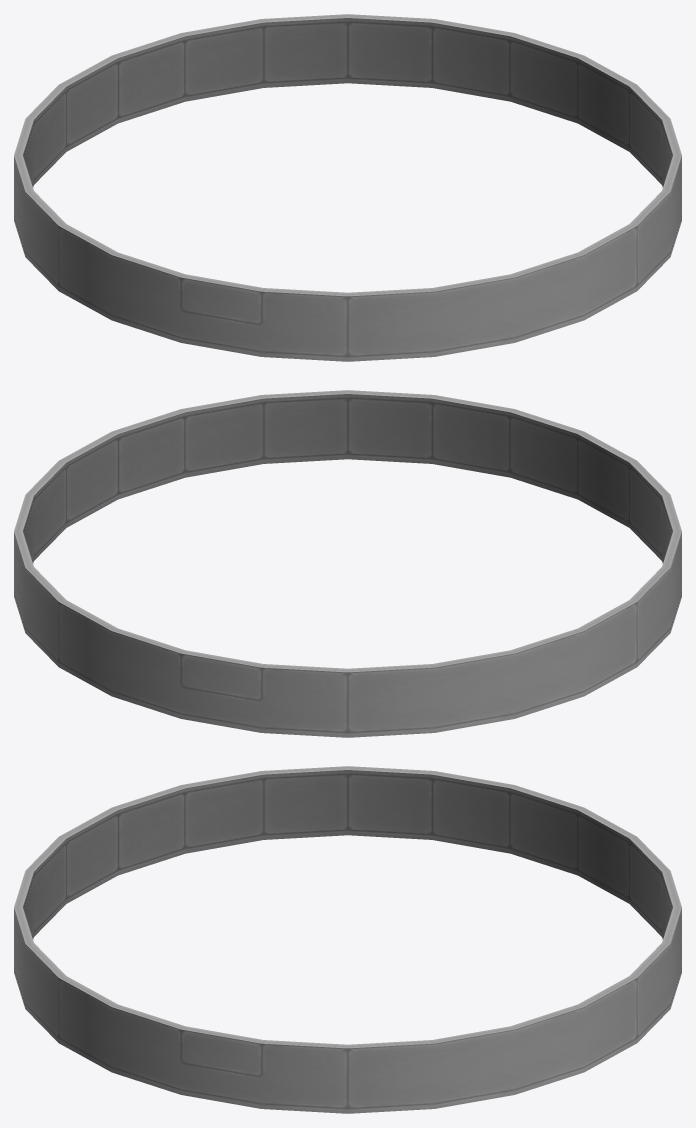
File: Alnair_Heatshield_1_Fairing.obj
3 views of the same model, one above another, from view 1: azimuth 30°, elevation 25°; view 2: azimuth 150°, elevation 25°; view 3: azimuth 270°, elevation 25° (orthographic).
Parts seen in each view (by area): view 1: Alnair_Heatshield_1_Fairing; view 2: Alnair_Heatshield_1_Fairing; view 3: Alnair_Heatshield_1_Fairing.
Part boxes in pixels (<box>): Alnair_Heatshield_1_Fairing: <box>14,14,681,361</box>; Alnair_Heatshield_1_Fairing: <box>14,390,681,737</box>; Alnair_Heatshield_1_Fairing: <box>14,766,681,1113</box>.
Bounding box in the file's own units: 1.88 × 0.2025 × 1.88.
